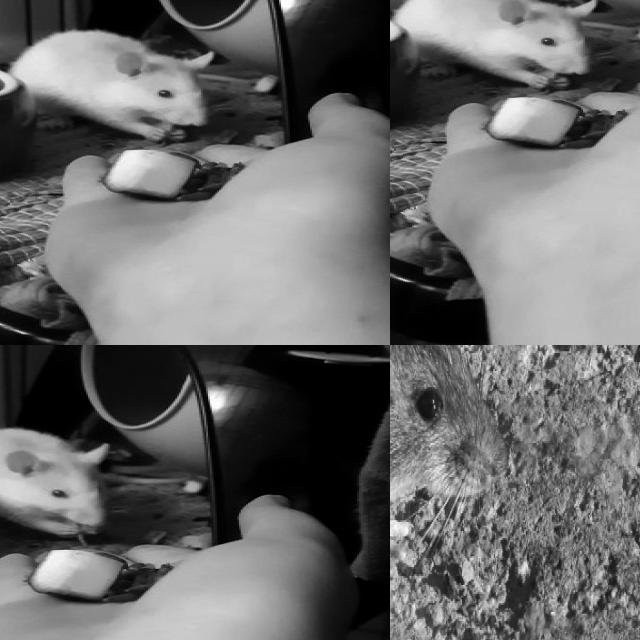rat: (390, 345, 505, 640), (14, 29, 219, 142), (390, 0, 616, 90), (0, 426, 113, 532)
